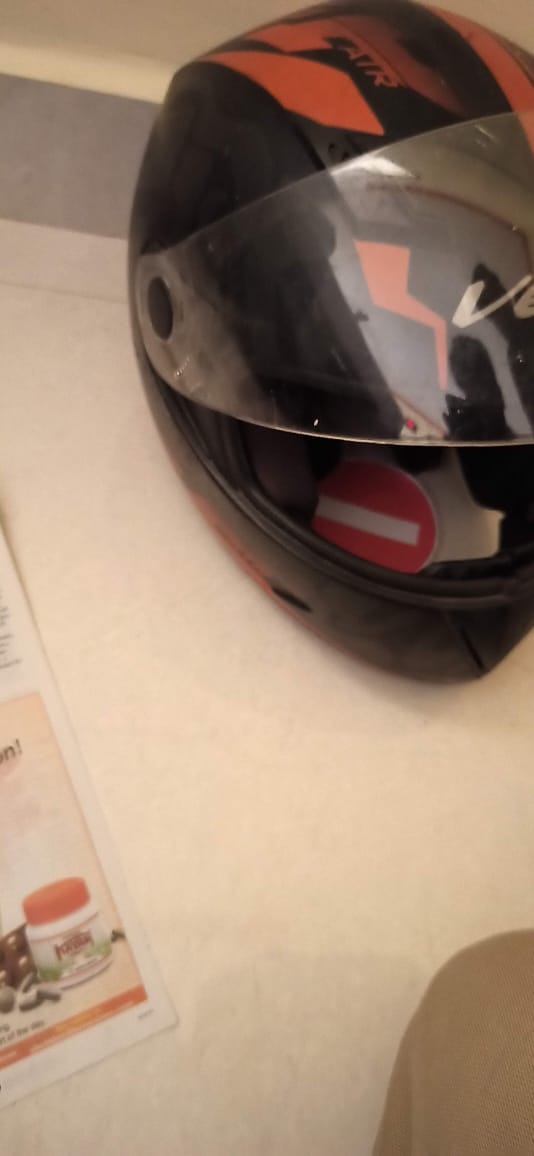NO ENTRY: (287, 444, 466, 597)
